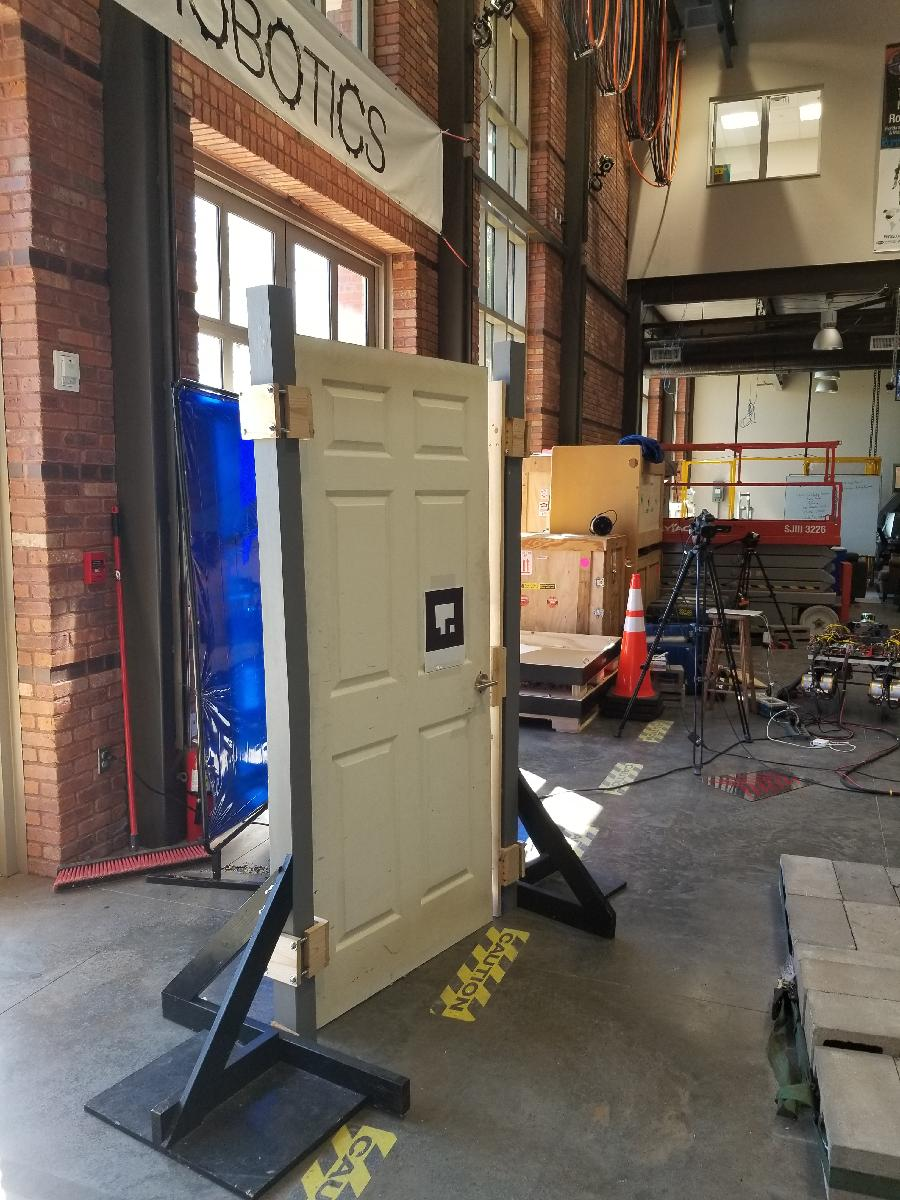door: (288, 329, 503, 1033)
doorHandle: (468, 671, 499, 702)
